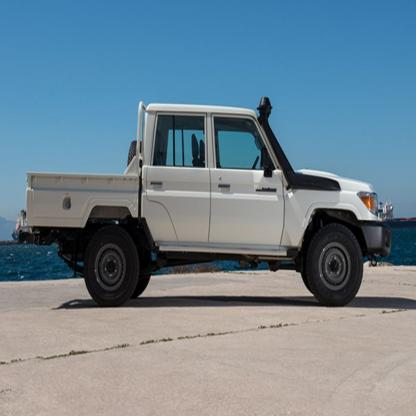light_vehicle: (19, 90, 394, 320)
